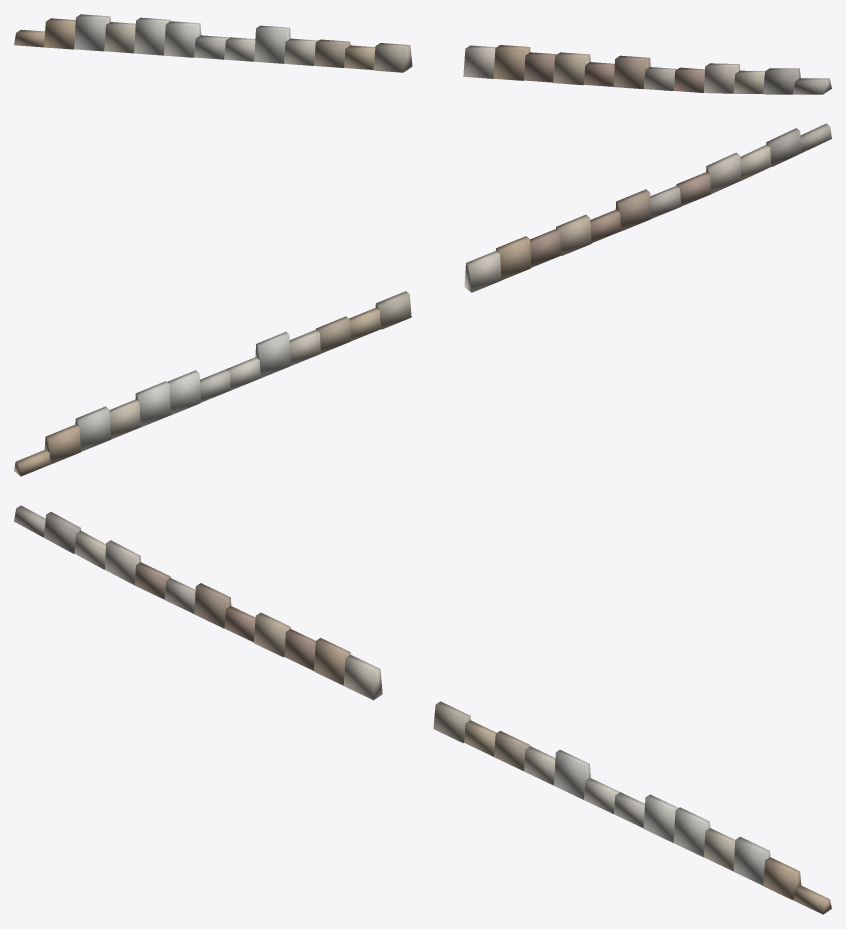
The model's file is farm_-6_5_collision.glb.
3 renders of one model, top to bottom at view 1: azimuth 90°, elevation 25°; view 2: azimuth 150°, elevation 25°; view 3: azimuth 270°, elevation 25°, orthographic. The views are drawn at different scales.
Parts seen in each view (by area): view 1: geometry_0; view 2: geometry_0; view 3: geometry_0.
Boxes of the visible parts, bbox=[...] form: geometry_0: bbox=[14, 14, 831, 94]; geometry_0: bbox=[14, 123, 831, 476]; geometry_0: bbox=[14, 505, 831, 914].
Size of the model in its own units: 23.36 by 8.9 by 35.55.
